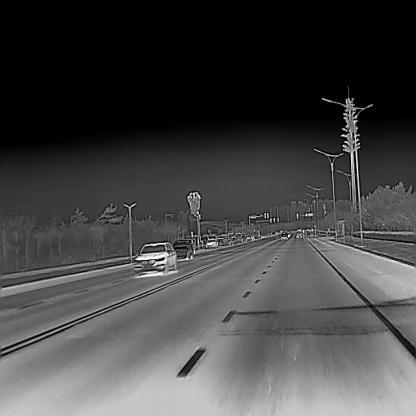car: (131, 240, 179, 275), (172, 240, 193, 259), (203, 238, 218, 249), (279, 232, 288, 241), (294, 230, 302, 238)
